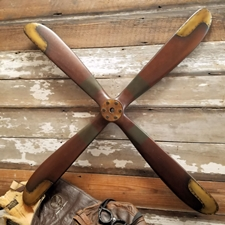Propeller: (17, 17, 224, 220)
